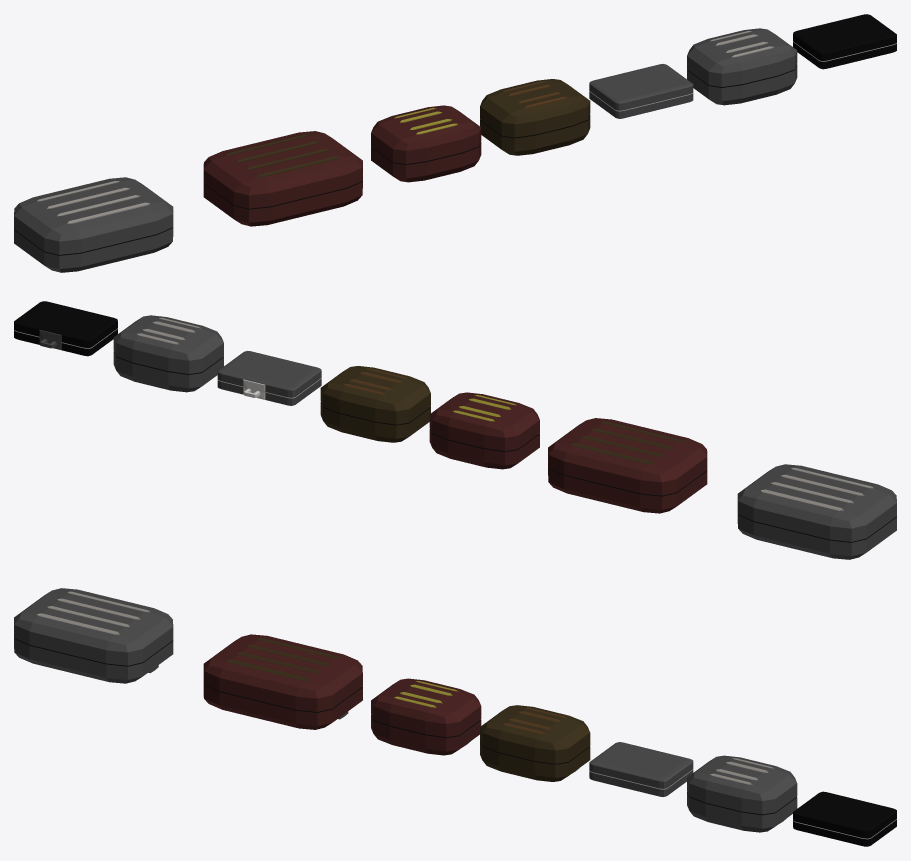
The model's file is Luggage Pack.fbx.
3 renders of one model, top to bottom at view 1: azimuth 30°, elevation 25°; view 2: azimuth 150°, elevation 25°; view 3: azimuth 330°, elevation 25°, orthographic.
Parts seen in each view (by area): view 1: Luggage Bag 1, Luggage Bag 3, Luggage Bag 2, Luggage Bag 4, Luggage Bag 5, Brief Case, Brief Case 2; view 2: Luggage Bag 1, Luggage Bag 3, Luggage Bag 2, Luggage Bag 4, Luggage Bag 5, Brief Case, Brief Case 2; view 3: Luggage Bag 1, Luggage Bag 3, Luggage Bag 4, Luggage Bag 5, Luggage Bag 2, Brief Case 2, Brief Case.
Boxes of the visible parts, x1,y1,x2,y2 form: Luggage Bag 1: (203, 131, 362, 226); Luggage Bag 3: (14, 177, 173, 272); Luggage Bag 2: (371, 105, 481, 182); Luggage Bag 4: (480, 79, 590, 155); Luggage Bag 5: (687, 28, 797, 105); Brief Case: (589, 64, 693, 118); Brief Case 2: (793, 14, 896, 69); Luggage Bag 1: (548, 418, 707, 513); Luggage Bag 3: (737, 464, 896, 559); Luggage Bag 2: (429, 392, 539, 469); Luggage Bag 4: (320, 366, 430, 442); Luggage Bag 5: (113, 315, 223, 392); Brief Case: (217, 351, 321, 405); Brief Case 2: (14, 301, 117, 356); Luggage Bag 1: (203, 634, 362, 729); Luggage Bag 3: (14, 588, 173, 683); Luggage Bag 4: (480, 705, 590, 781); Luggage Bag 5: (687, 755, 797, 832); Luggage Bag 2: (371, 678, 481, 755); Brief Case 2: (793, 791, 896, 846); Brief Case: (589, 742, 693, 796).
Bounding box in the file's own units: 8.55 × 0.4445 × 0.8876.
